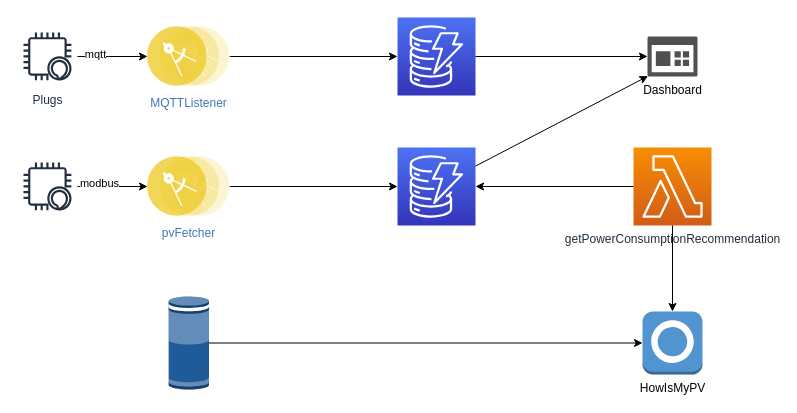
Image size: 797x413. Some labels were removed from this diagram. Each missing label, with the box of its shape:
e3dc: (16, 156, 78, 216)
pv: (396, 146, 476, 226)
smarthome: (396, 16, 476, 96)
